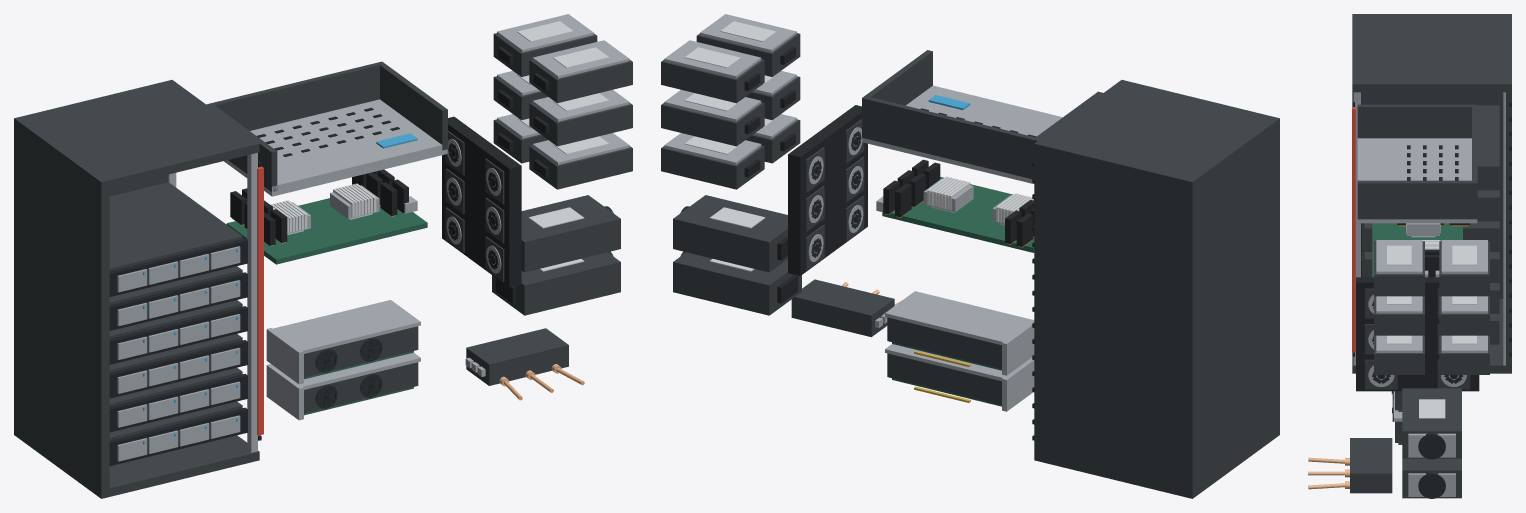
The model's file is cocometric-shape-revision.glb.
3 renders of one model, left to right at view 1: azimuth 30°, elevation 25°; view 2: azimuth 150°, elevation 25°; view 3: azimuth 270°, elevation 25°, orthographic. The views are drawn at different scales.
Visible parts, largest first — view 1: Rack_Left_Side, Rack_Top, Exploded_Chassis_Base, Installed_Server_5, Fan_Wall, Exploded_Chassis_Back, Rack_Bottom, PSU_0, Motherboard, PSU_1, GPU_1_Backplate, NIC_Router_Body (+31 smaller); view 2: Rack_Back, Rack_Left_Side, Rack_Top, Exploded_Chassis_Back, Fan_Wall, PSU_0, PSU_1, Exploded_Chassis_Base, GPU_1_Backplate, NIC_Router_Body, Motherboard, GPU_1_Body (+16 smaller); view 3: Rack_Top, Exploded_Chassis_Base, Exploded_Chassis_Right, Exploded_Chassis_Left, Fan_Wall, Rack_Left_Side, PSU_0, NIC_Router_Body, Installed_Server_5, Rack_Back, Drive_0_1, PSU_1 (+35 smaller).
Part boxes in pixels (x1,y1,x2,y2): Rack_Left_Side: [14, 116, 109, 498]; Rack_Top: [14, 80, 259, 190]; Exploded_Chassis_Base: [224, 99, 447, 196]; Installed_Server_5: [109, 182, 242, 271]; Fan_Wall: [442, 116, 521, 287]; Exploded_Chassis_Back: [206, 61, 384, 130]; Rack_Bottom: [14, 426, 259, 498]; PSU_0: [521, 195, 620, 272]; Motherboard: [226, 198, 427, 264]; PSU_1: [492, 252, 620, 315]; GPU_1_Backplate: [271, 300, 420, 353]; NIC_Router_Body: [466, 328, 568, 385]; Rack_Back: [1034, 151, 1194, 491]; Rack_Left_Side: [1184, 116, 1279, 498]; Rack_Top: [1034, 80, 1279, 190]; Exploded_Chassis_Back: [862, 96, 1039, 178]; Fan_Wall: [788, 105, 867, 275]; PSU_0: [673, 195, 787, 272]; PSU_1: [673, 252, 801, 315]; Exploded_Chassis_Base: [862, 85, 1062, 183]; GPU_1_Backplate: [885, 291, 1032, 345]; NIC_Router_Body: [791, 279, 894, 337]; Motherboard: [882, 177, 1034, 252]; GPU_1_Body: [887, 317, 1001, 368]; Rack_Top: [1352, 14, 1511, 92]; Exploded_Chassis_Base: [1357, 138, 1477, 223]; Exploded_Chassis_Right: [1357, 180, 1477, 219]; Exploded_Chassis_Left: [1357, 104, 1477, 138]; Fan_Wall: [1356, 277, 1479, 391]; Rack_Left_Side: [1352, 14, 1511, 298]; PSU_0: [1402, 388, 1461, 458]; NIC_Router_Body: [1350, 438, 1392, 493]; Installed_Server_5: [1477, 105, 1499, 190]; Rack_Back: [1506, 91, 1511, 366]; Drive_0_1: [1374, 241, 1424, 296]; PSU_1: [1402, 458, 1461, 498].
Size of the model in its own units: 8.02 by 4.4 by 2.81.
